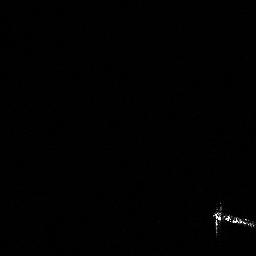ship: (208, 199, 256, 237)
